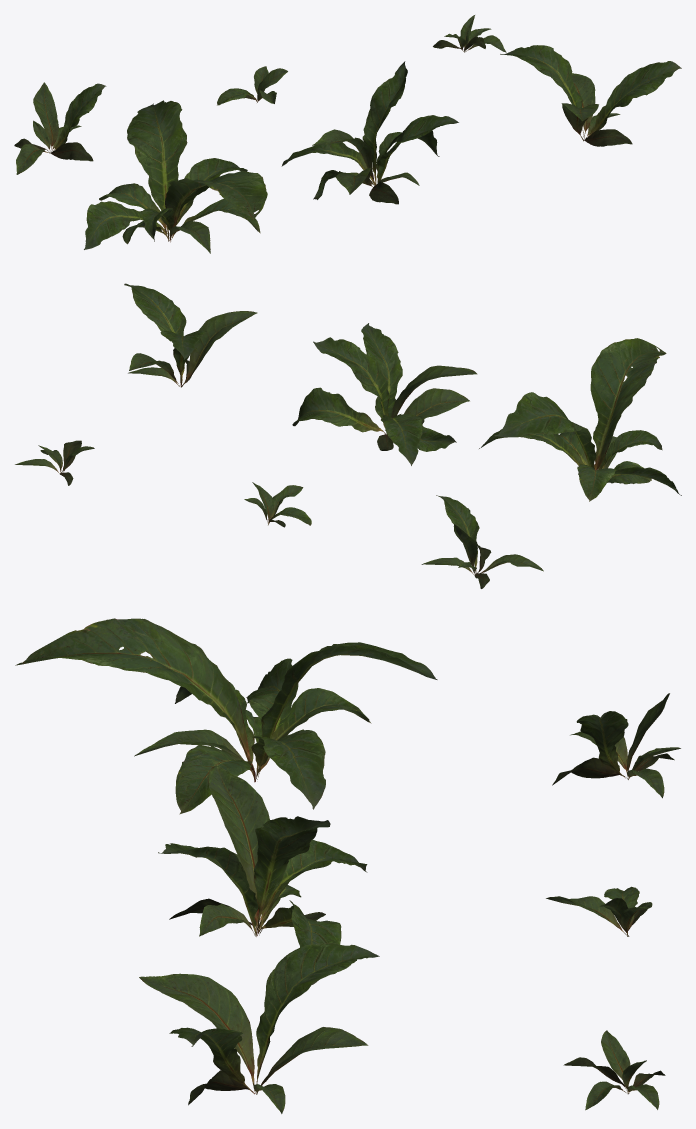
The model's file is anthurium.jpg-BUTGP0DV.glb.
3 views of the same model, one above another, from view 1: azimuth 30°, elevation 25°; view 2: azimuth 150°, elevation 25°; view 3: azimuth 270°, elevation 25° (orthographic). The views are drawn at different scales.
Parts seen in each view (by area): view 1: anthurium_botany_01_a, anthurium_botany_01_b, anthurium_botany_01_c, anthurium_botany_04_d, anthurium_botany_05_e, anthurium_botany_06_f; view 2: anthurium_botany_01_a, anthurium_botany_01_b, anthurium_botany_01_c, anthurium_botany_04_d, anthurium_botany_05_e, anthurium_botany_06_f; view 3: anthurium_botany_01_a, anthurium_botany_01_b, anthurium_botany_01_c, anthurium_botany_04_d, anthurium_botany_06_f, anthurium_botany_05_e.
Part boxes in pixels (x1=…): anthurium_botany_01_a: x1=84, y1=100, x2=267, y2=253; anthurium_botany_01_b: x1=281, y1=61, x2=458, y2=204; anthurium_botany_01_c: x1=500, y1=45, x2=681, y2=146; anthurium_botany_04_d: x1=14, y1=82, x2=106, y2=174; anthurium_botany_05_e: x1=217, y1=66, x2=287, y2=105; anthurium_botany_06_f: x1=433, y1=15, x2=506, y2=52; anthurium_botany_01_a: x1=479, y1=338, x2=681, y2=501; anthurium_botany_01_b: x1=292, y1=323, x2=477, y2=465; anthurium_botany_01_c: x1=124, y1=283, x2=257, y2=387; anthurium_botany_04_d: x1=421, y1=495, x2=543, y2=588; anthurium_botany_05_e: x1=244, y1=482, x2=311, y2=527; anthurium_botany_06_f: x1=15, y1=440, x2=94, y2=485; anthurium_botany_01_a: x1=15, y1=618, x2=437, y2=814; anthurium_botany_01_b: x1=158, y1=764, x2=367, y2=984; anthurium_botany_01_c: x1=139, y1=942, x2=379, y2=1113; anthurium_botany_04_d: x1=552, y1=693, x2=680, y2=798; anthurium_botany_06_f: x1=563, y1=1030, x2=665, y2=1110; anthurium_botany_05_e: x1=546, y1=886, x2=652, y2=936.
Bounding box in the file's own units: 2.79 × 0.4981 × 1.8.
1 material, 1 textured.
